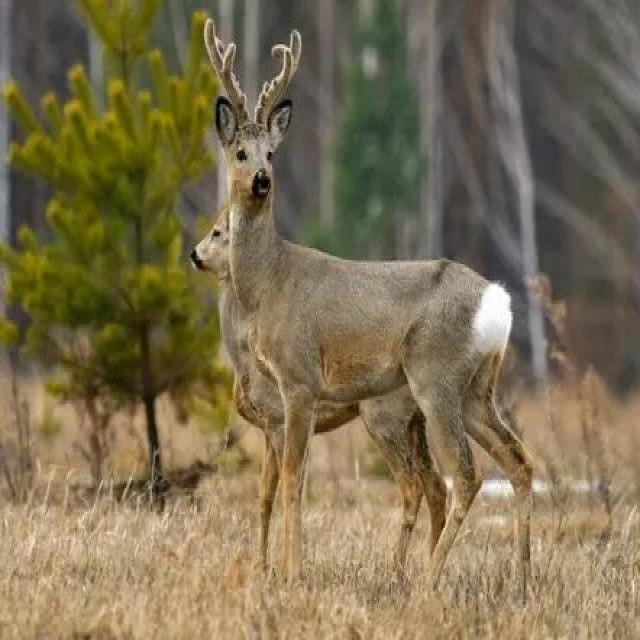deer: (190, 52, 546, 507)
